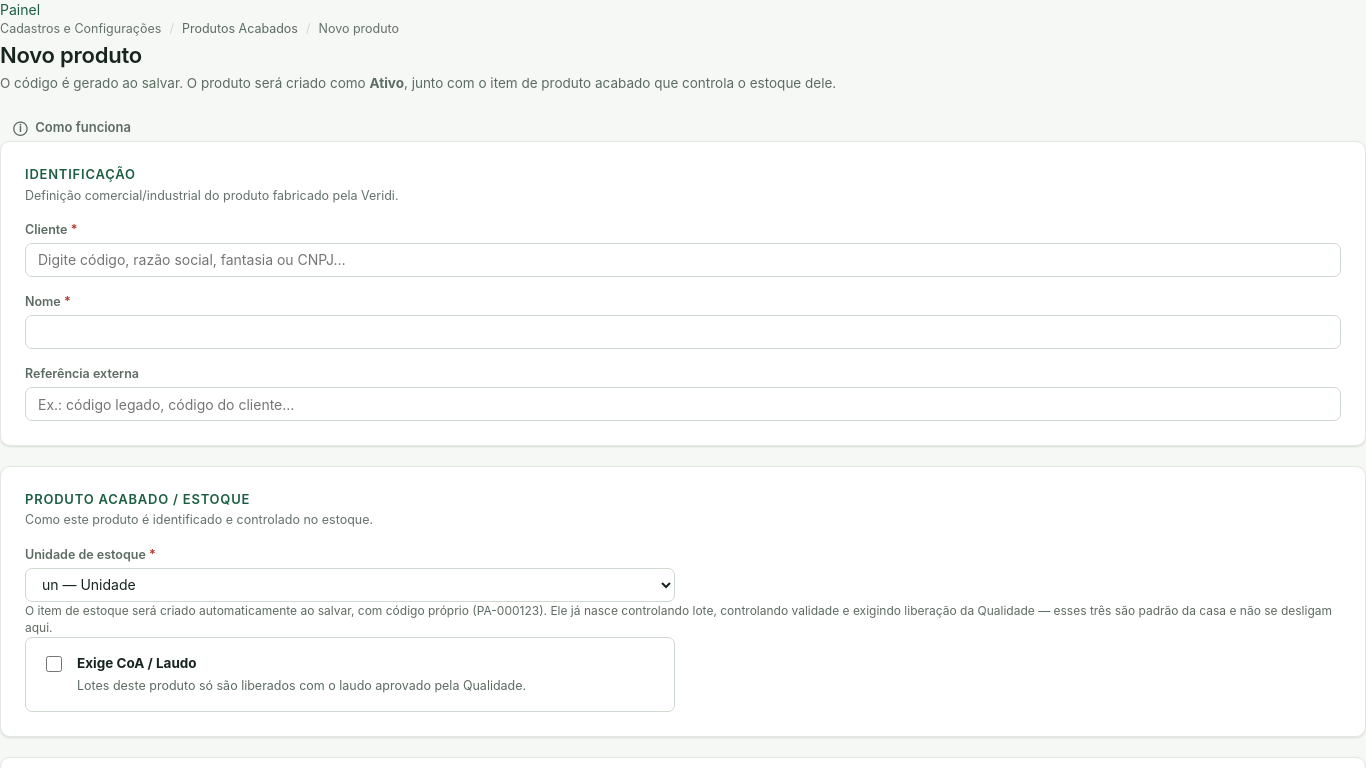
Test: Produto novo — guarda de alterações não salvas › nome digitado pergunta antes de sair
This screenshot has width=1366, height=768.
Expected: the heading "Novo produto" is shown, [0,42,142,68]
Type "Coenzima Q10 60 cápsulas" into the field labelled "Nome *" at point(683, 332), box [25,315,1341,349]
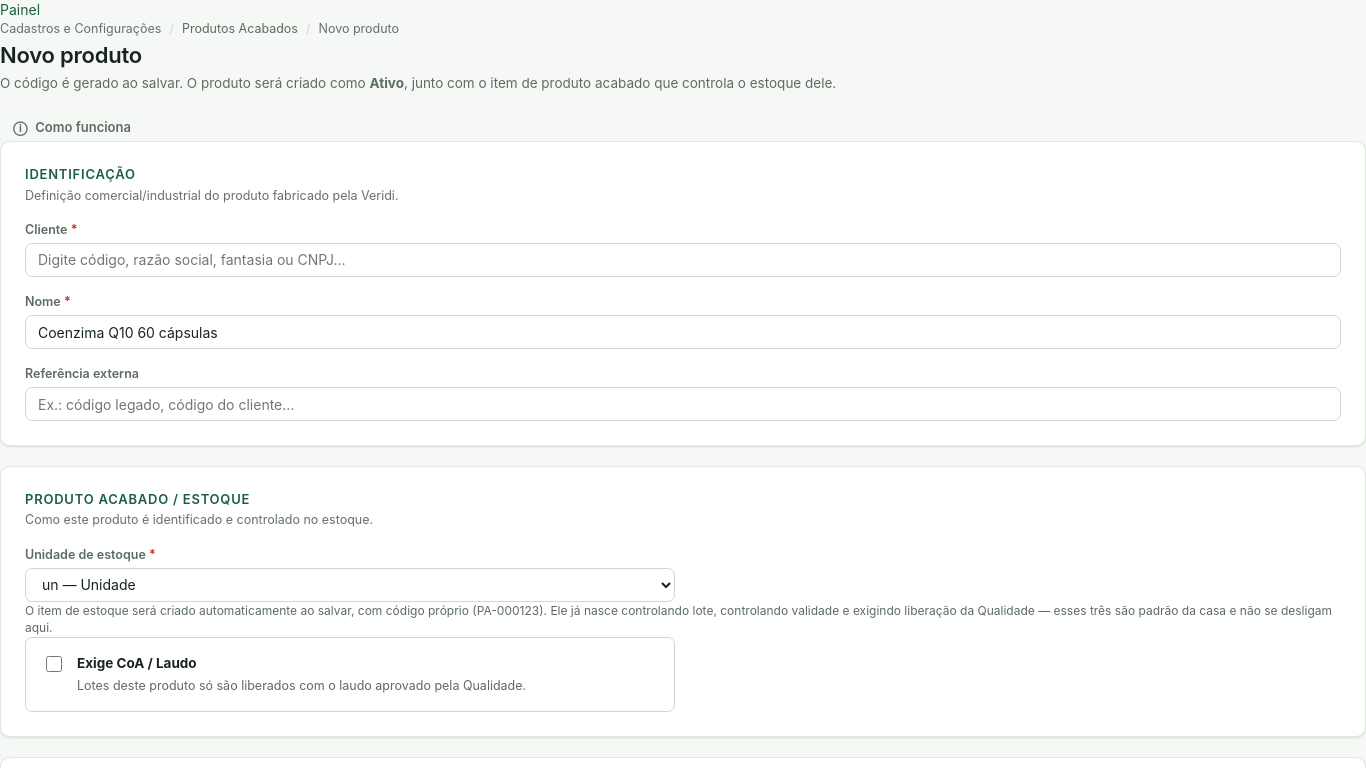
Click the link "Painel" at point(20, 10), box [0,1,40,18]
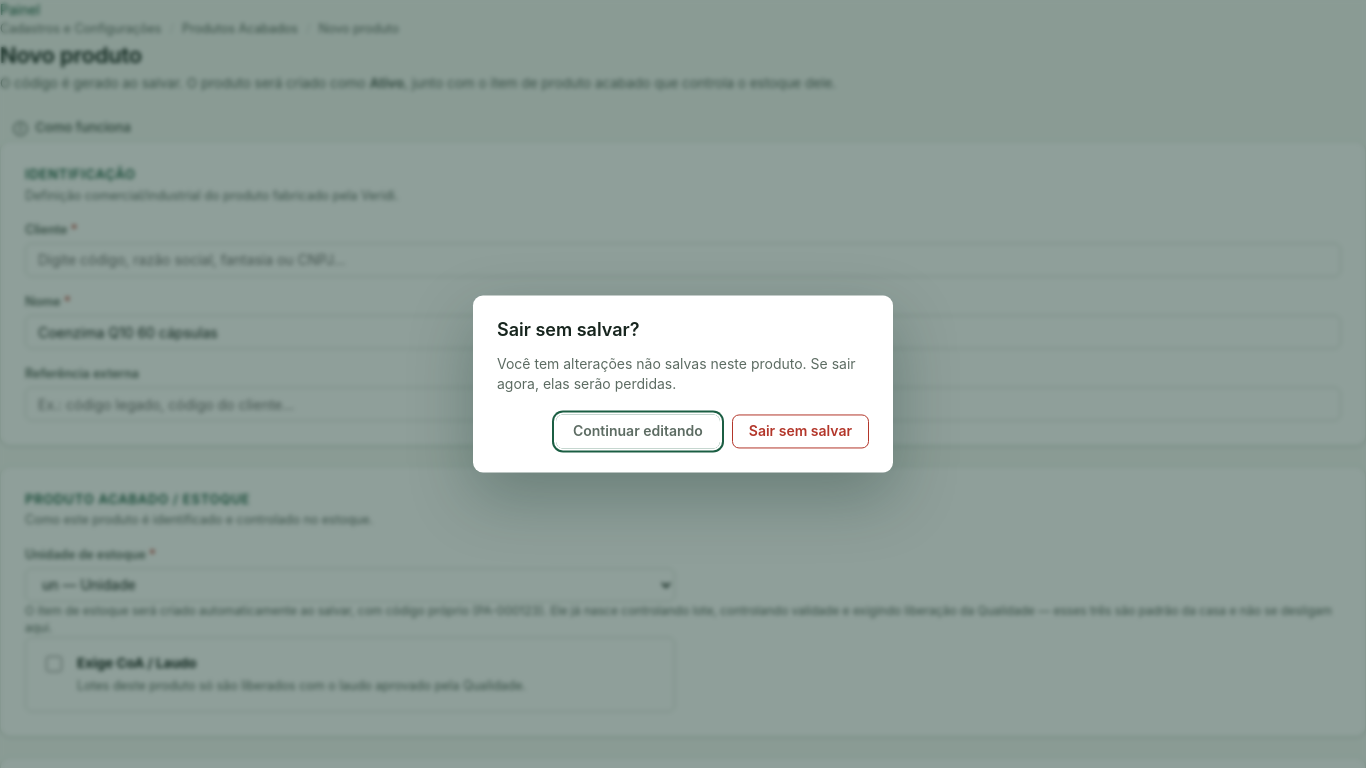
Expected: the heading "Sair sem salvar?" is shown, [497,320,640,340]
Expected: the text "alterações não salvas neste produto" is shown, [497,354,869,395]
